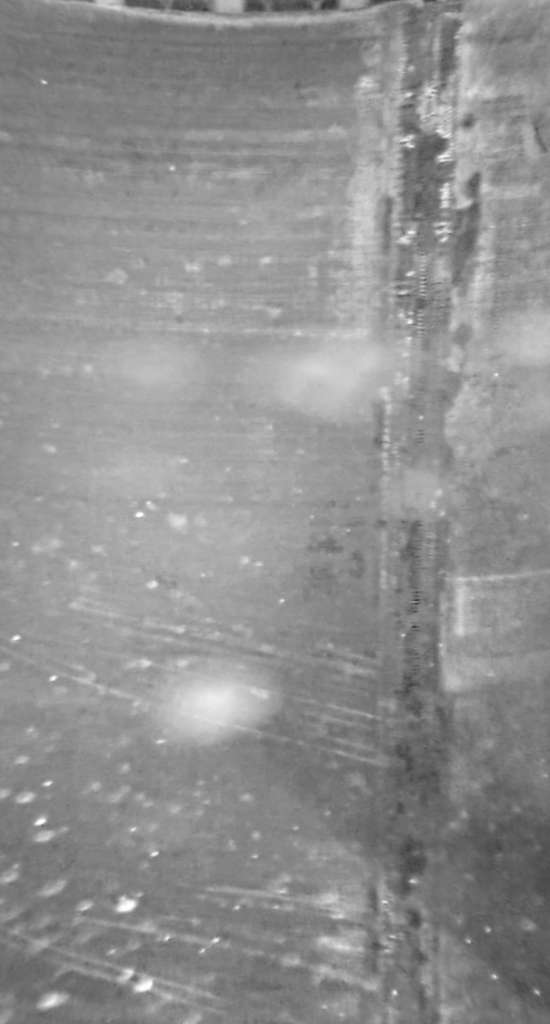splice: (381, 1, 489, 1024)
